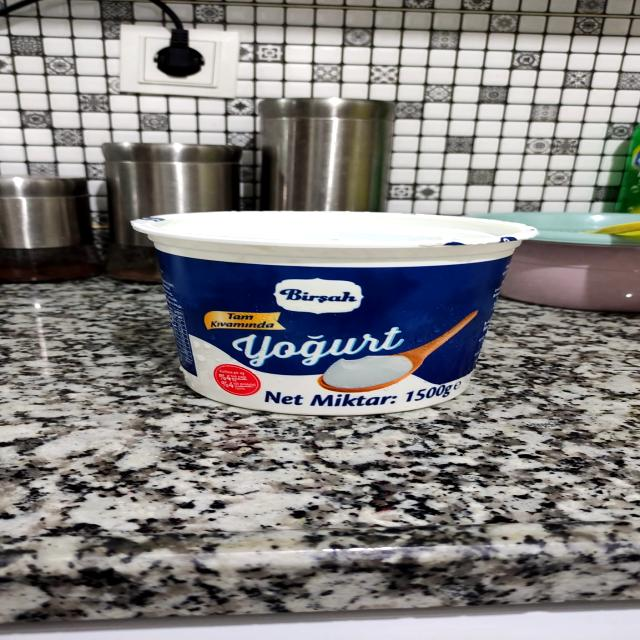yogurt: (130, 196, 540, 418)
